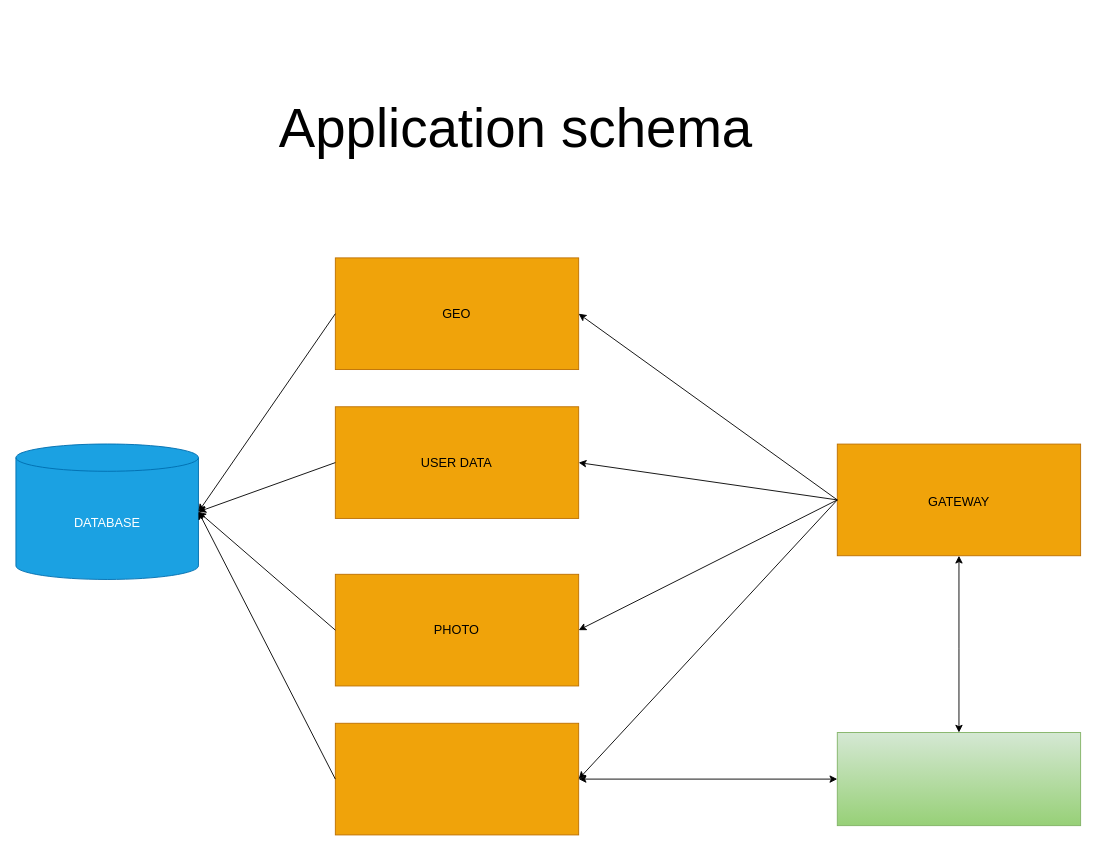
This 1097x851 diagram has some shape labels left out. Each missing label, with the centre of its shape:
"AUTHENTICATION" belongs at pixel 456 778.
"FRONTEND" belongs at pixel 958 779.
